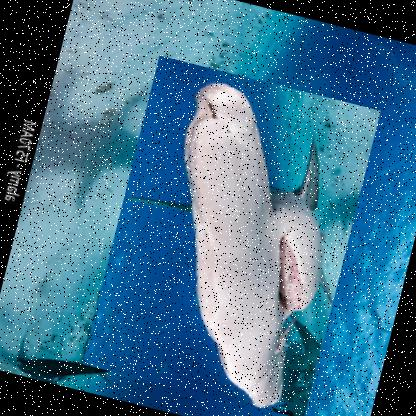hammerhead_Shark: (80, 54, 380, 415)
